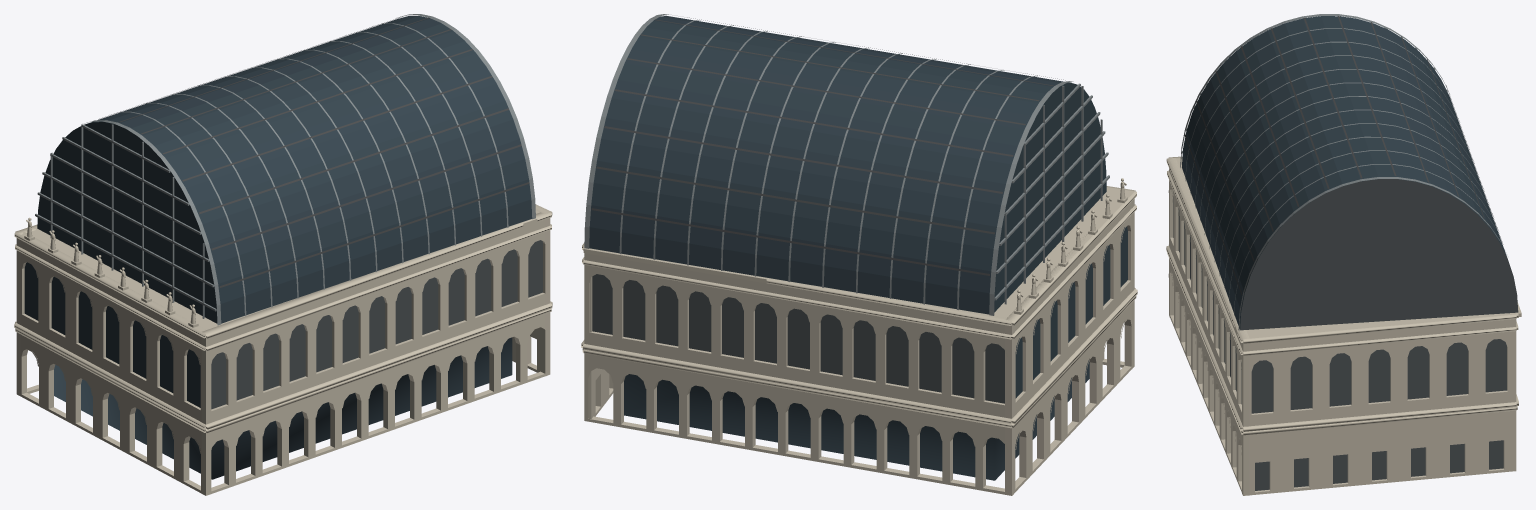
Rendered from opera-de-lyon-far.glb.
3 renders of one model, left to right at view 1: azimuth 30°, elevation 25°; view 2: azimuth 150°, elevation 25°; view 3: azimuth 270°, elevation 25°, orthographic. The views are drawn at different scales.
Visible parts, largest first — view 1: opera-de-lyon-0-glass, opera-de-lyon-0-stone, opera-de-lyon-0-steel, opera-de-lyon-0-shutter, opera-de-lyon-0-glow; view 2: opera-de-lyon-0-glass, opera-de-lyon-0-stone, opera-de-lyon-0-shutter, opera-de-lyon-0-steel, opera-de-lyon-0-glow; view 3: opera-de-lyon-0-stone, opera-de-lyon-0-glass, opera-de-lyon-0-shutter, opera-de-lyon-0-steel, opera-de-lyon-0-glow.
Boxes of the visible parts, <box> form: opera-de-lyon-0-glass: <box>24,16,532,479</box>; opera-de-lyon-0-stone: <box>14,204,552,495</box>; opera-de-lyon-0-steel: <box>35,14,535,325</box>; opera-de-lyon-0-shutter: <box>211,240,542,409</box>; opera-de-lyon-0-glow: <box>98,15,529,287</box>; opera-de-lyon-0-glass: <box>589,16,1127,480</box>; opera-de-lyon-0-stone: <box>581,178,1137,495</box>; opera-de-lyon-0-shutter: <box>592,274,1004,403</box>; opera-de-lyon-0-steel: <box>584,14,1109,315</box>; opera-de-lyon-0-glow: <box>591,17,1065,275</box>; opera-de-lyon-0-stone: <box>1166,156,1521,495</box>; opera-de-lyon-0-glass: <box>1182,16,1506,329</box>; opera-de-lyon-0-shutter: <box>1173,179,1518,490</box>; opera-de-lyon-0-steel: <box>1180,14,1500,330</box>; opera-de-lyon-0-glow: <box>1184,16,1503,294</box>.
Bounding box in the file's own units: 60.55 × 42.16 × 45.23.
